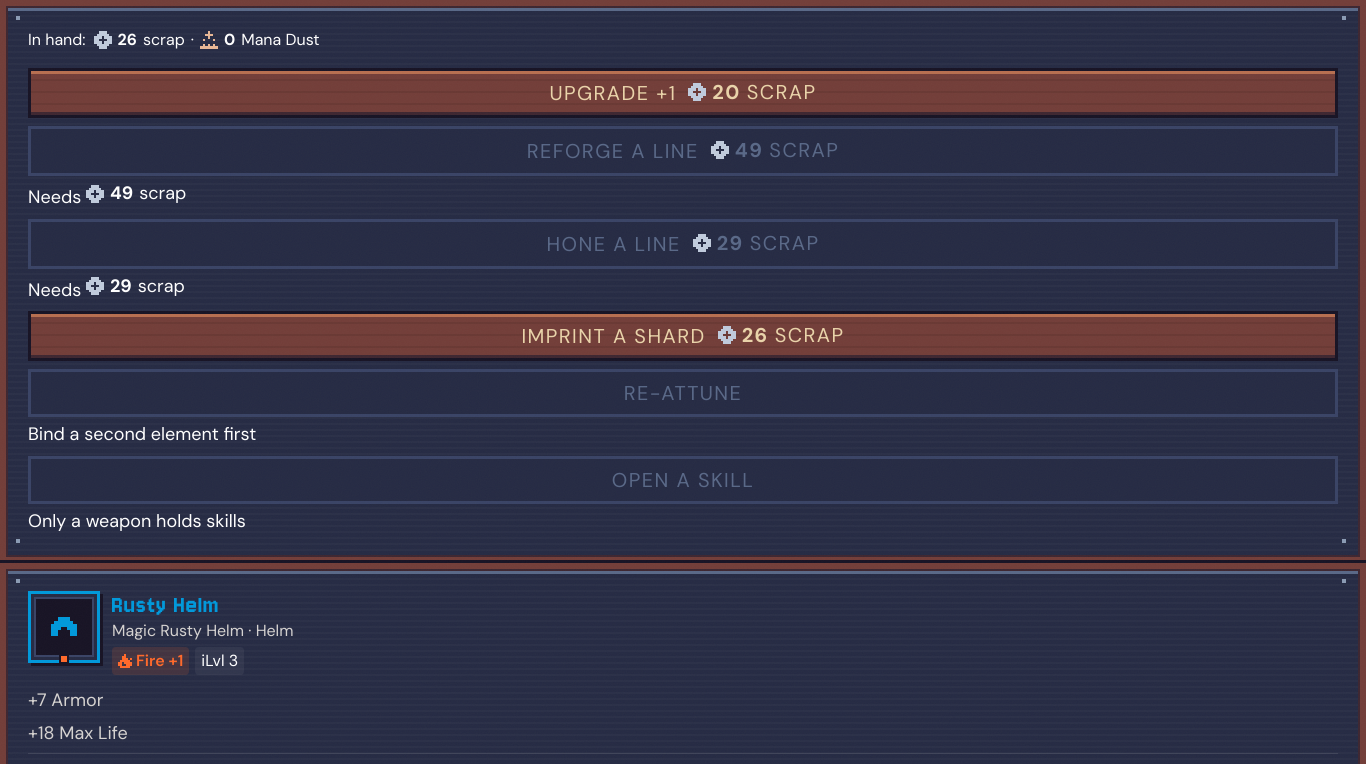
Test: Temper › imprints a held shard over a line: only shards that fit the slot
The width and height of the screenshot is (1366, 764).
Click the button with test id "temper-op-imprint" at (683, 336), box [28, 311, 1338, 361]
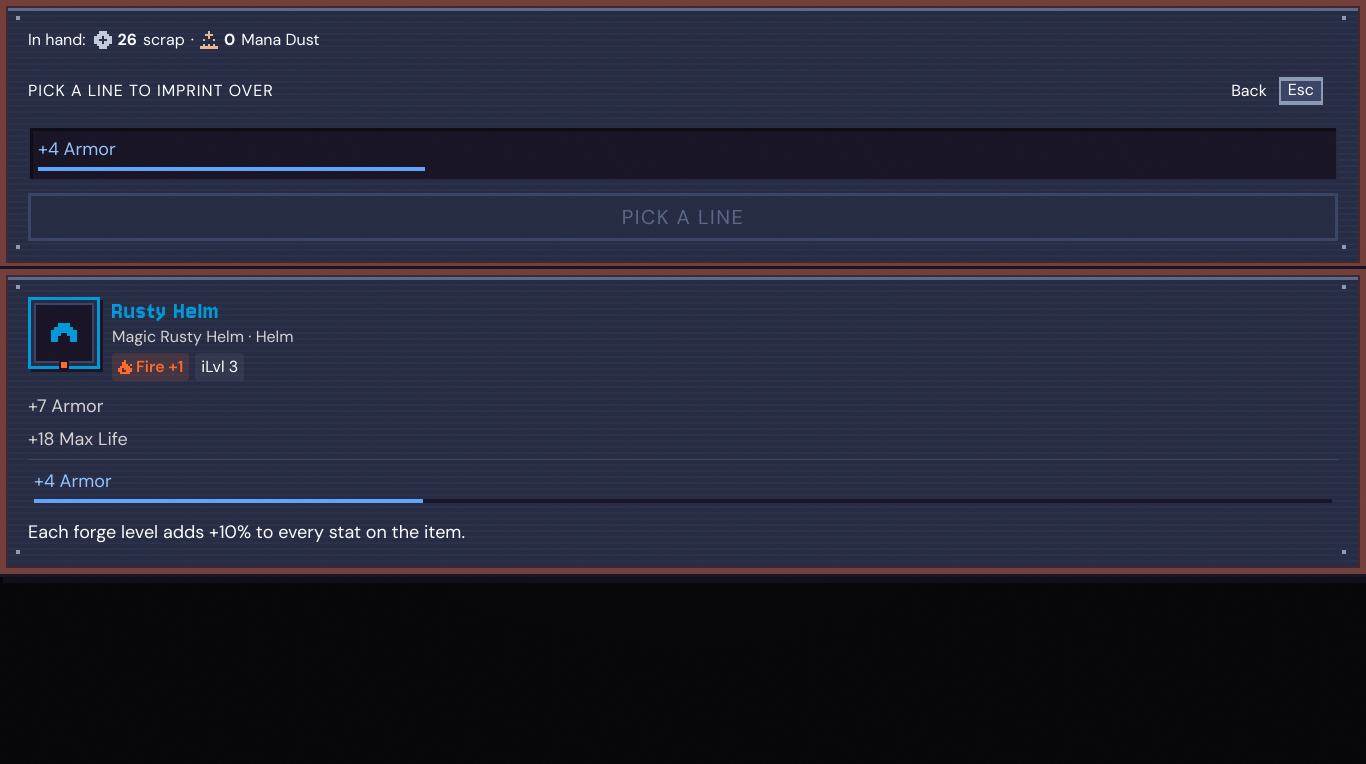
Click the button with test id "imprint-line-0" at (77, 149), box [28, 126, 1338, 181]
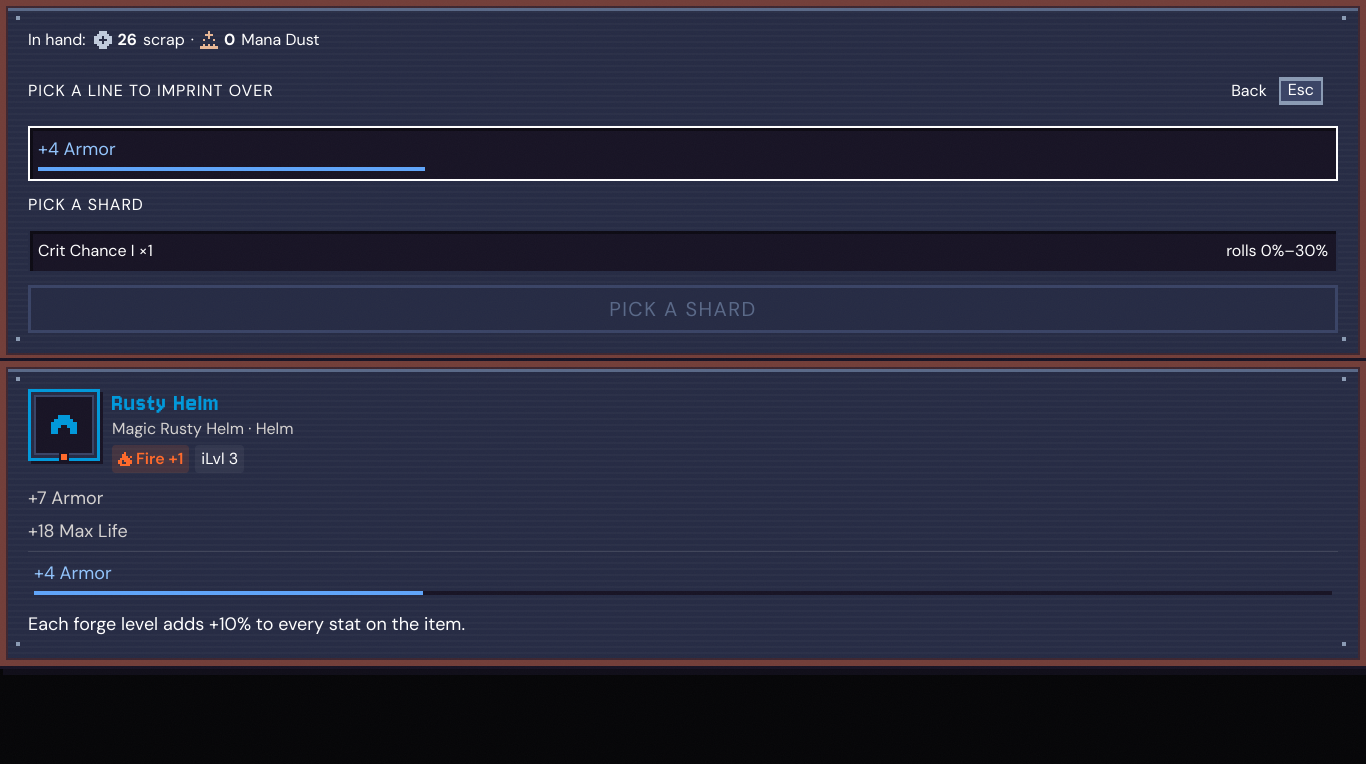
Check: the button with test id "imprint-button" reads "Pick a shard", box [28, 285, 1338, 333]
Check: the button with test id "shard-pick-critChance-1" is shown
Click the button with test id "shard-pick-critChance-1" at (86, 250), box [28, 229, 1338, 273]
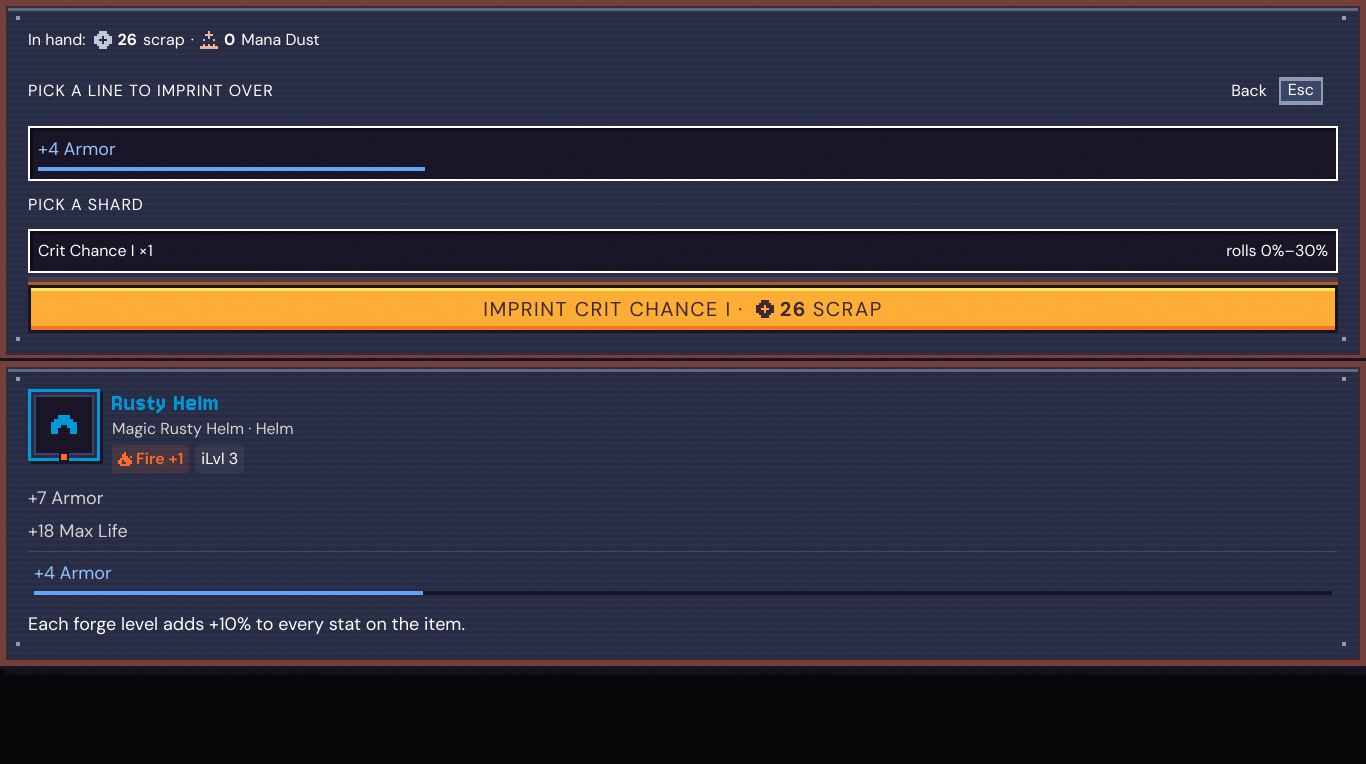
Click the button with test id "imprint-button" at (683, 309), box [28, 285, 1338, 333]
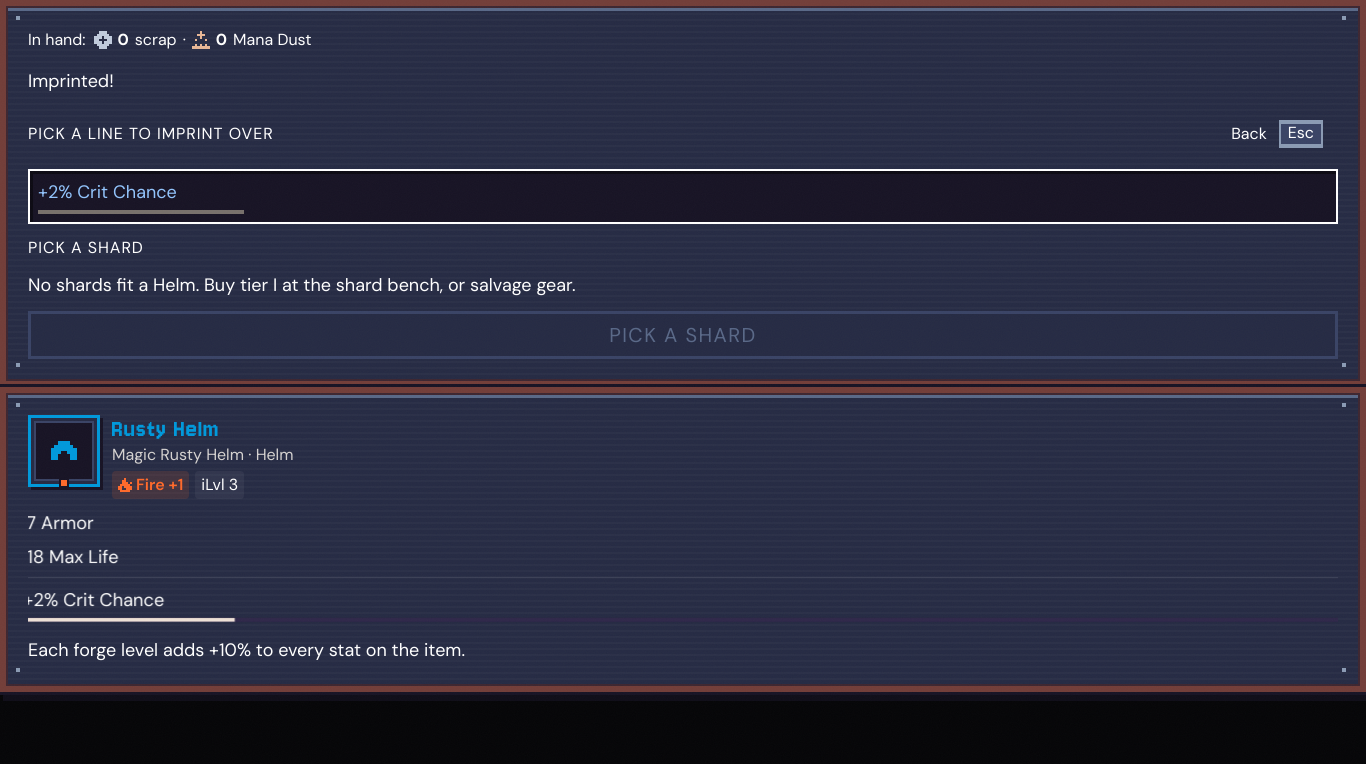
Check: the message reads "Imprinted!", box [28, 69, 114, 93]
Check: the button with test id "imprint-button" reads "Pick a shard", box [28, 311, 1338, 359]
